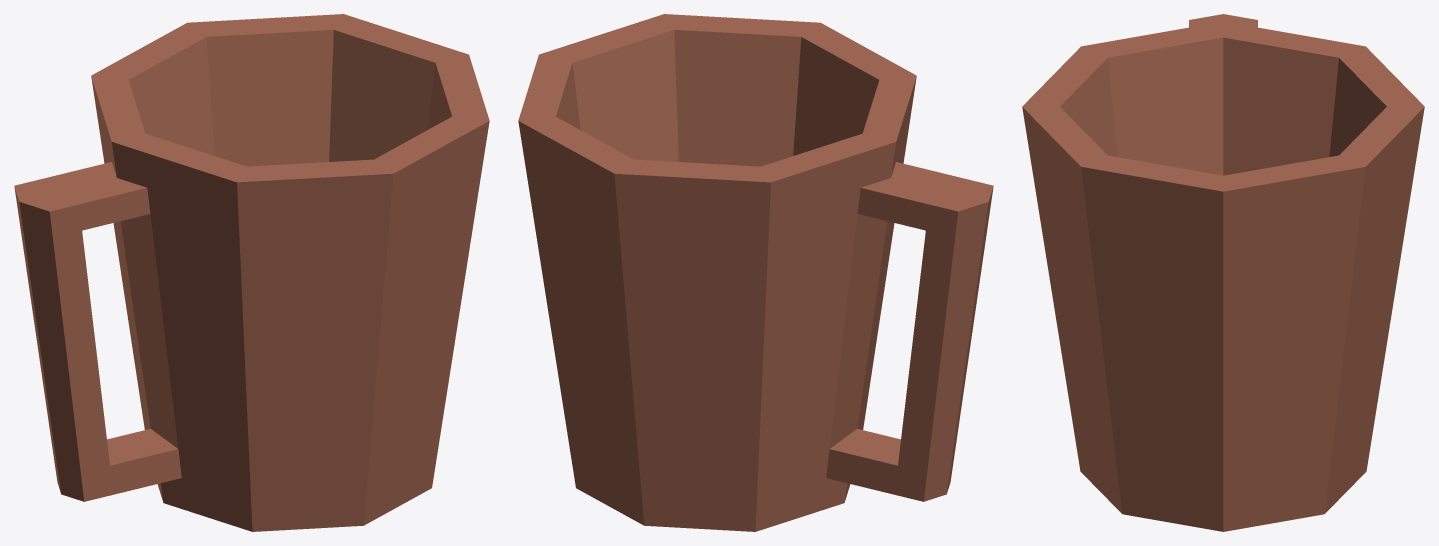
Rendered from mug.fbx.
3 renders of one model, left to right at view 1: azimuth 30°, elevation 25°; view 2: azimuth 150°, elevation 25°; view 3: azimuth 270°, elevation 25°, orthographic. The views are drawn at different scales.
Parts seen in each view (by area): view 1: Mug; view 2: Mug; view 3: Mug.
Boxes of the visible parts, <box> form: Mug: <box>14,14,489,531</box>; Mug: <box>518,14,993,531</box>; Mug: <box>1022,14,1424,531</box>.
Bounding box in the file's own units: 32.89 × 26.13 × 26.13.
